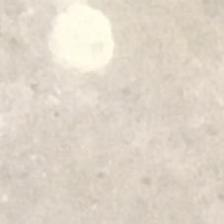Non_Crack: (19, 23, 217, 208)
